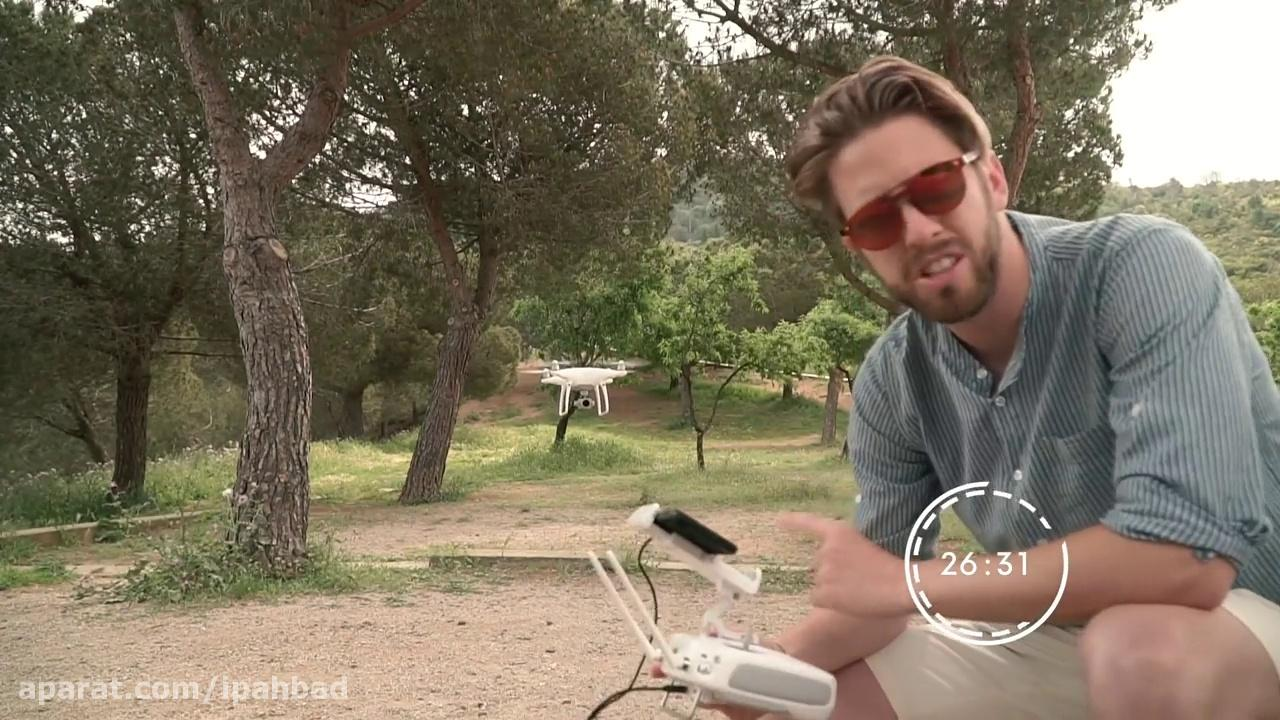drone: (515, 353, 656, 419)
